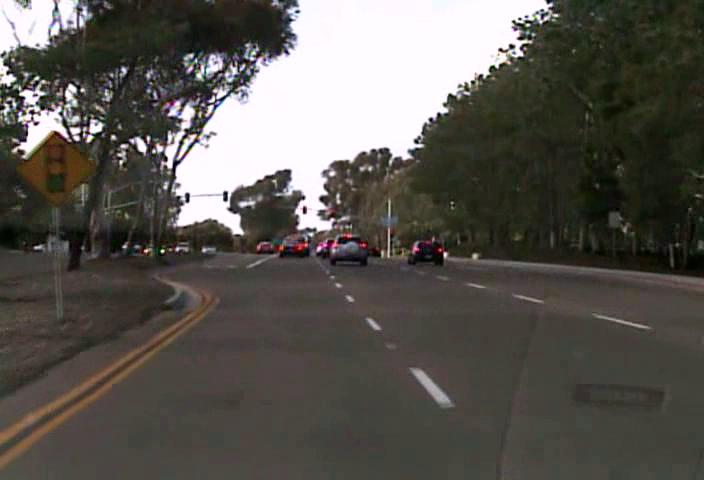signalAhead: (15, 130, 95, 207)
